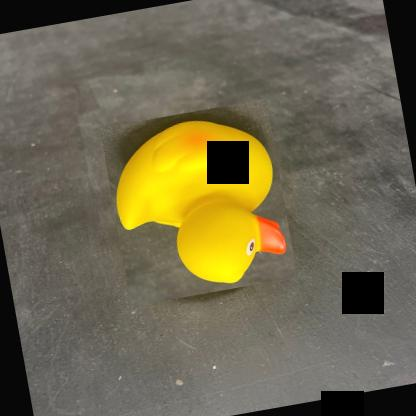duck: (100, 98, 298, 306)
